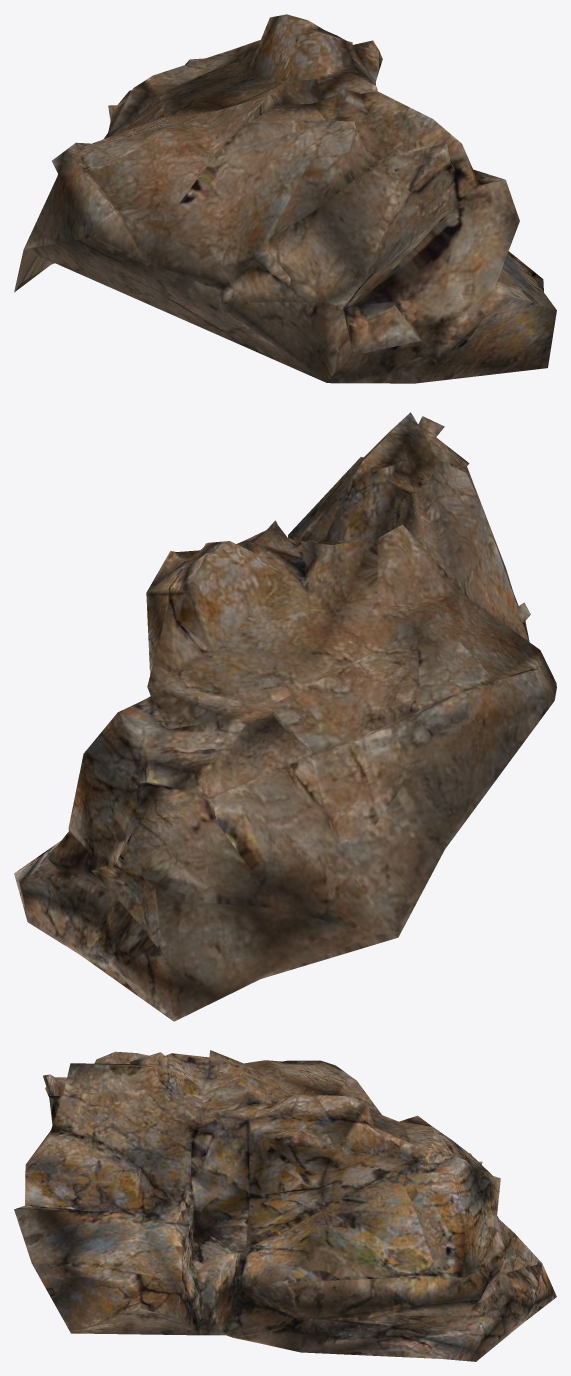
File: armour_rock-embedded.glb
3 renders of one model, top to bottom at view 1: azimuth 30°, elevation 25°; view 2: azimuth 150°, elevation 25°; view 3: azimuth 270°, elevation 25°, orthographic. The views are drawn at different scales.
Visible parts, largest first — view 1: ArmourRock; view 2: ArmourRock; view 3: ArmourRock.
Part boxes in pixels (box(x1,y1,x2,y2)): ArmourRock: box(14, 14, 556, 383); ArmourRock: box(14, 412, 556, 1021); ArmourRock: box(14, 1050, 556, 1361).
Bounding box in the file's own units: 1.22 × 0.9739 × 1.81.
1 material, 1 textured.
